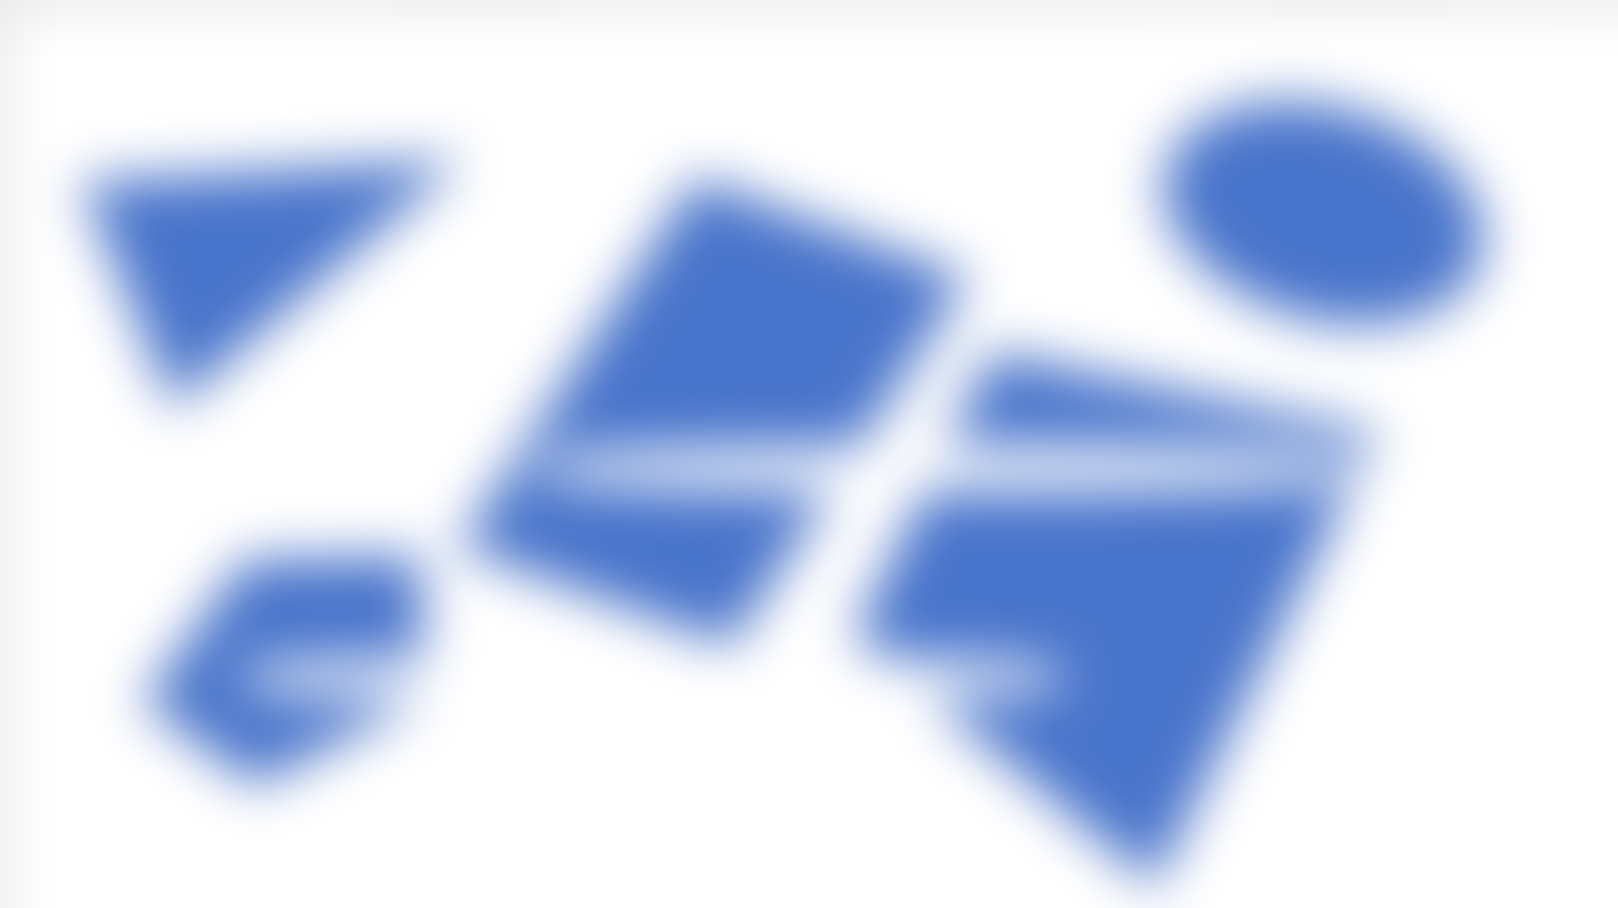circle: (1120, 54, 1514, 366)
parallelogram: (440, 166, 960, 677)
pentagon: (102, 539, 502, 766)
trapezium: (848, 332, 1404, 884)
triangle: (71, 136, 461, 391)
